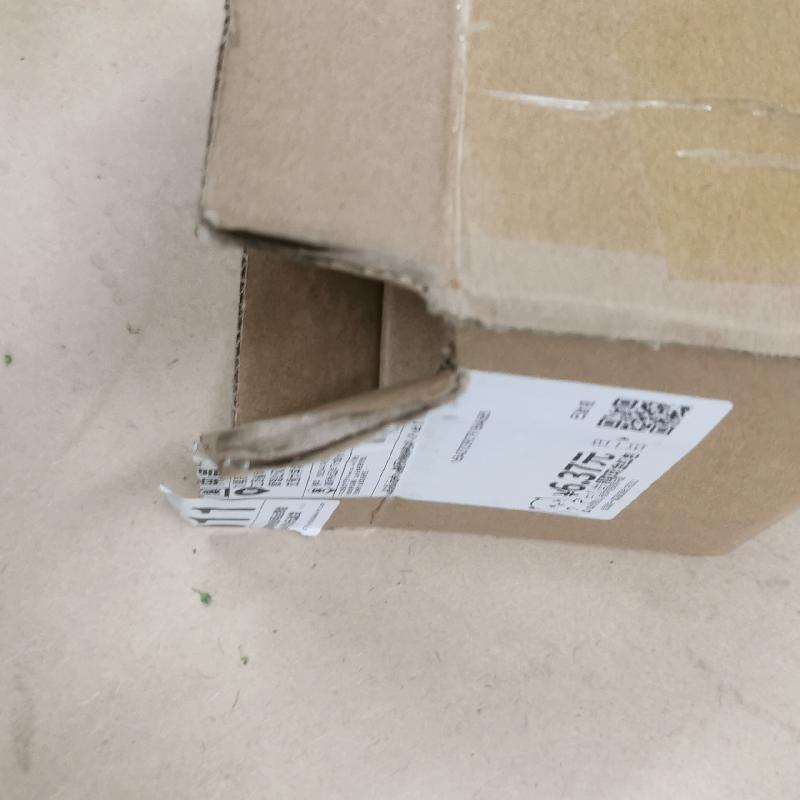boxes: (190, 1, 800, 557)
